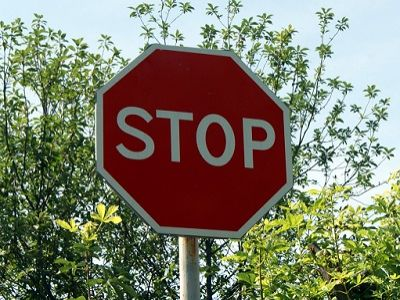stop: (110, 61, 285, 219)
